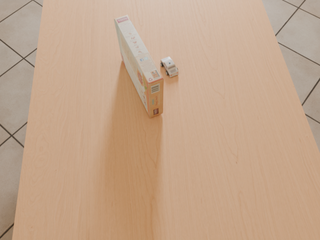box: (114, 15, 163, 118)
toy_car: (161, 57, 179, 77)
